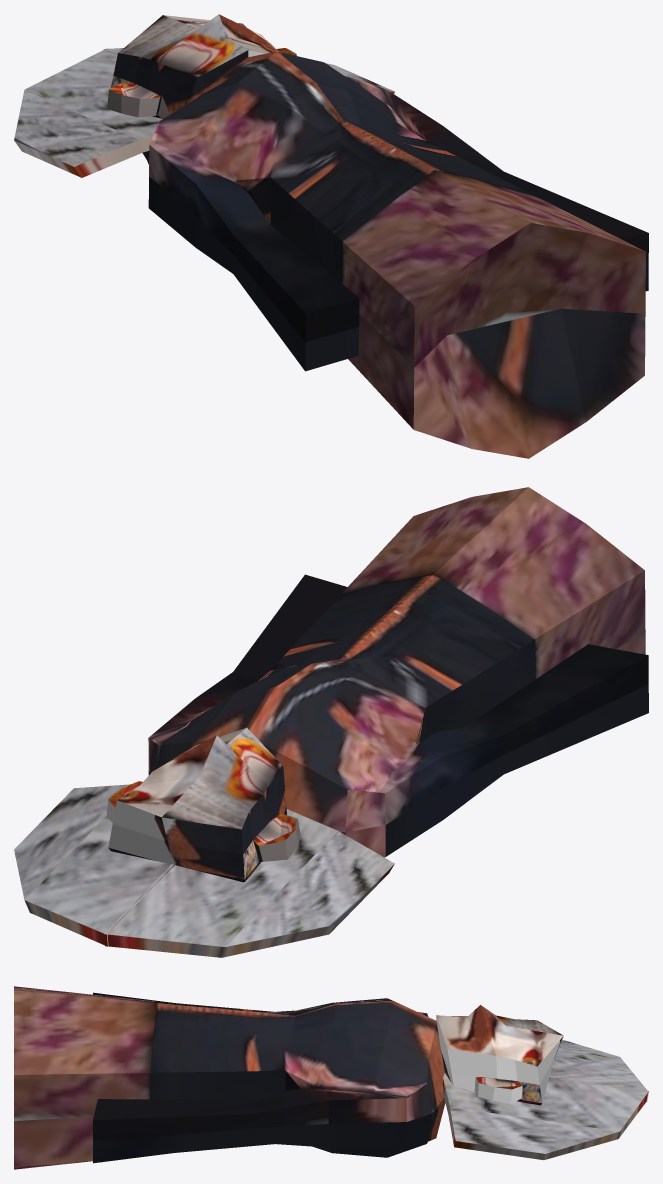
File: ondeljacok.fbx
The picture shows the model from 3 angles, top to bottom: view 1: azimuth 30°, elevation 25°; view 2: azimuth 150°, elevation 25°; view 3: azimuth 270°, elevation 25°; orthographic projection. The views are drawn at different scales.
Visible parts, largest first — view 1: ondel2minicowo; view 2: ondel2minicowo; view 3: ondel2minicowo.
Part boxes in pixels (box(x1,y1,x2,y2)): ondel2minicowo: box(14, 14, 648, 458); ondel2minicowo: box(14, 487, 648, 957); ondel2minicowo: box(14, 986, 648, 1169).
Size of the model in its own units: 40.57 by 26.55 by 86.76.
